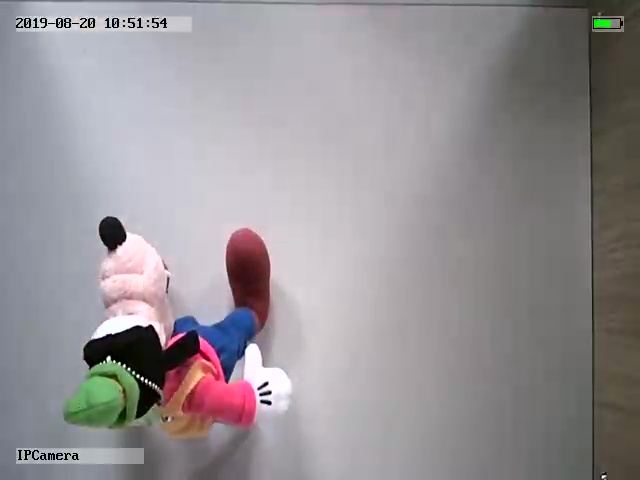goofy: (62, 213, 294, 441)
